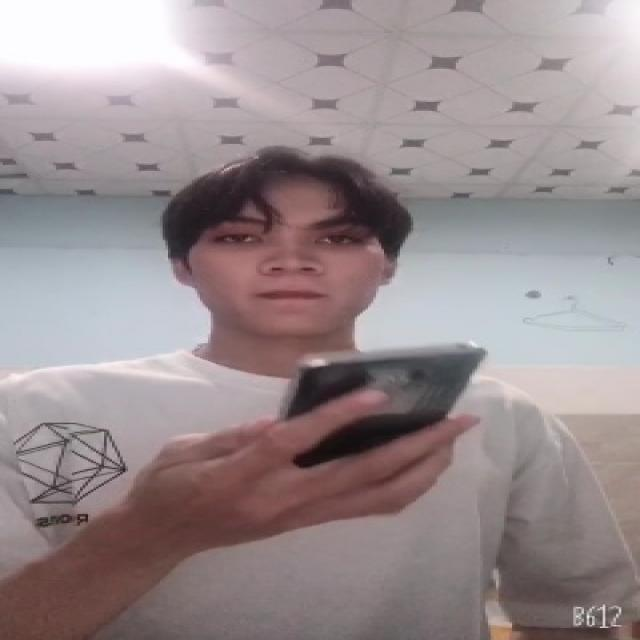Phone: (279, 339, 488, 466)
